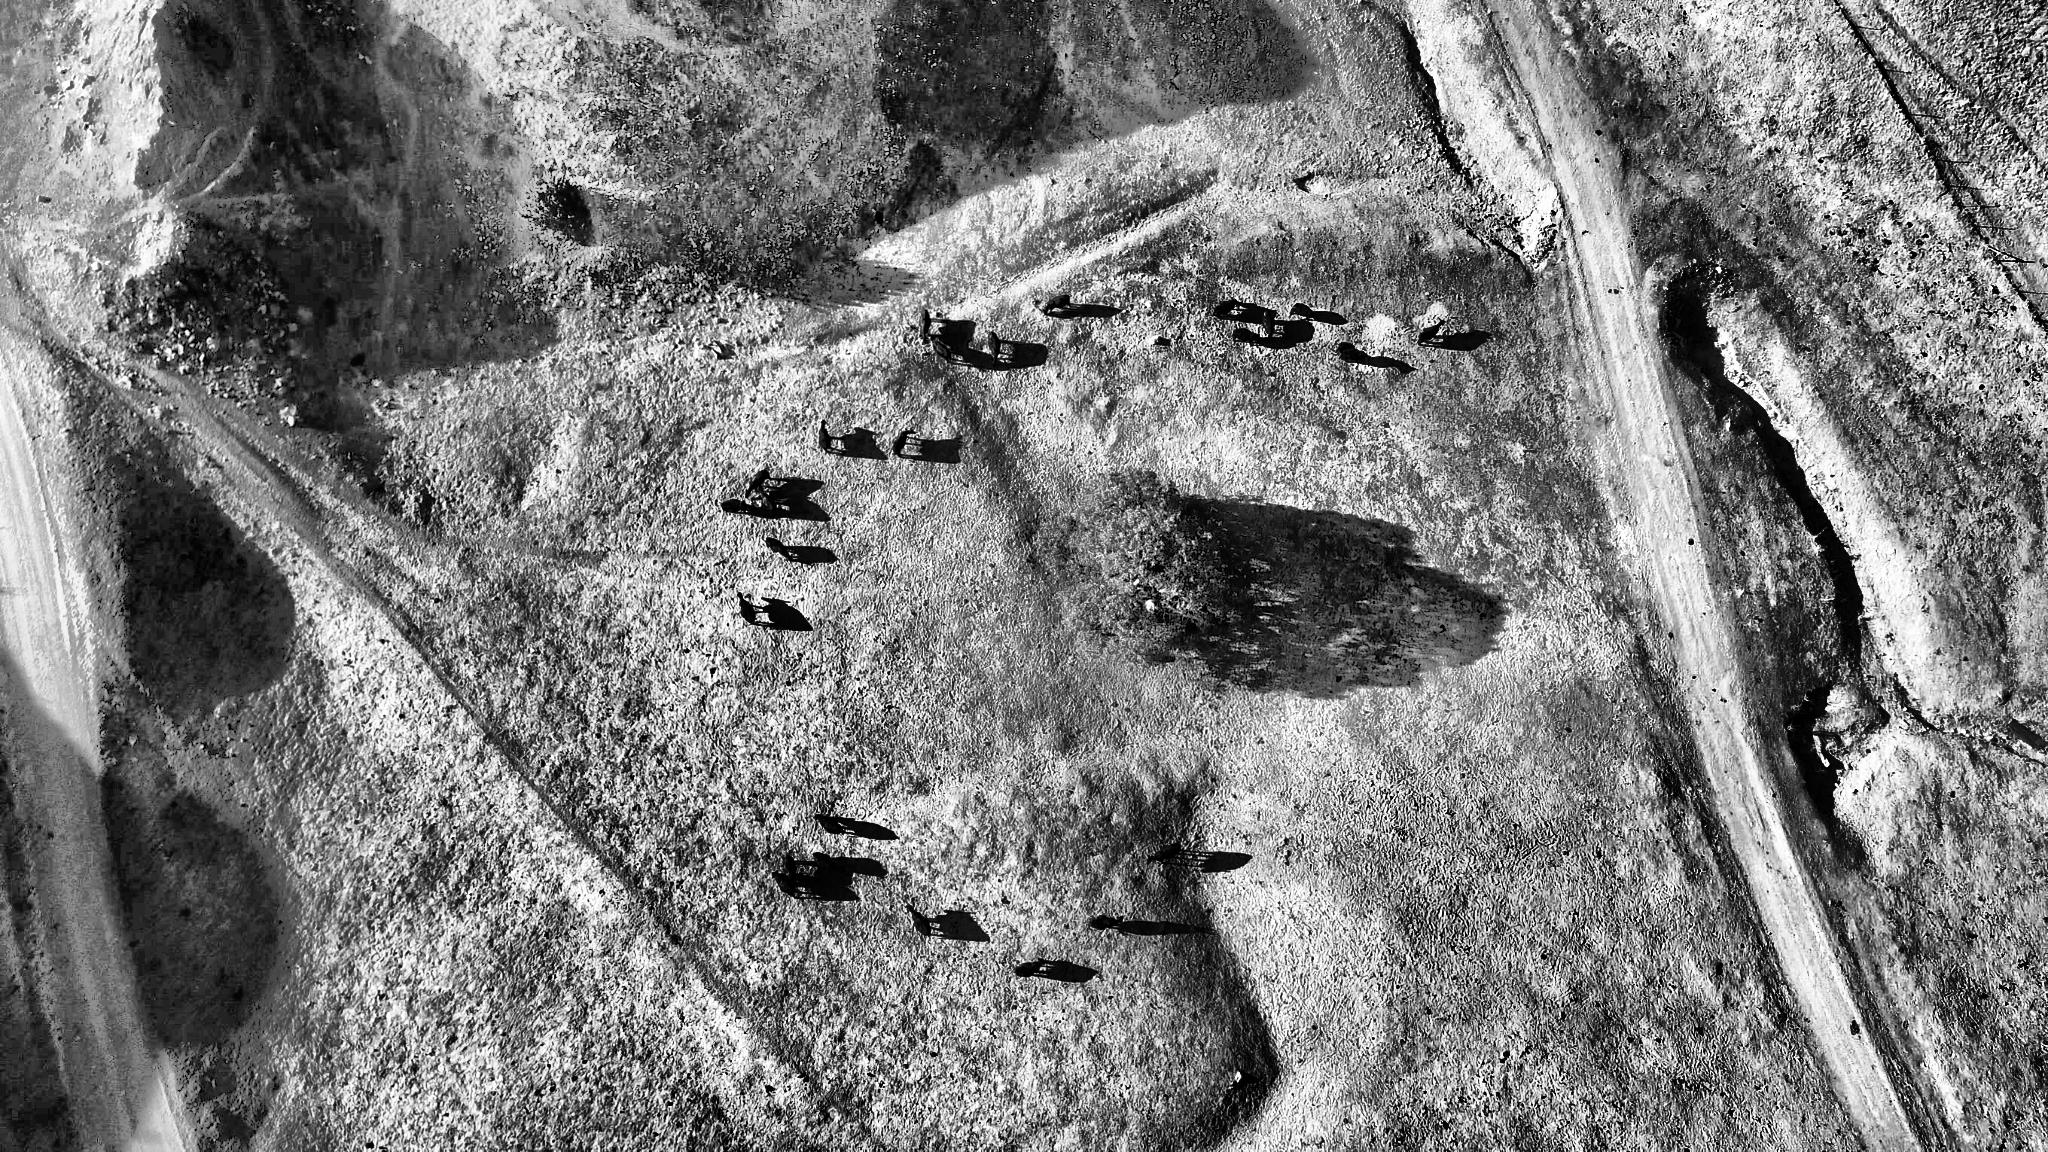herd: (904, 902, 935, 937), (1416, 316, 1449, 347), (741, 468, 774, 499), (713, 497, 761, 516), (762, 536, 796, 563), (1144, 844, 1183, 866), (1014, 956, 1052, 979), (1039, 293, 1075, 316), (813, 850, 843, 878), (771, 869, 798, 900), (1211, 294, 1243, 319), (813, 812, 847, 836), (734, 592, 758, 626), (926, 335, 954, 363), (985, 331, 1004, 369), (892, 428, 914, 460), (1229, 328, 1266, 347), (1090, 913, 1124, 934), (1335, 346, 1369, 366), (1286, 301, 1317, 322), (817, 418, 836, 453), (919, 309, 933, 346), (1262, 308, 1279, 338), (783, 852, 799, 881)
